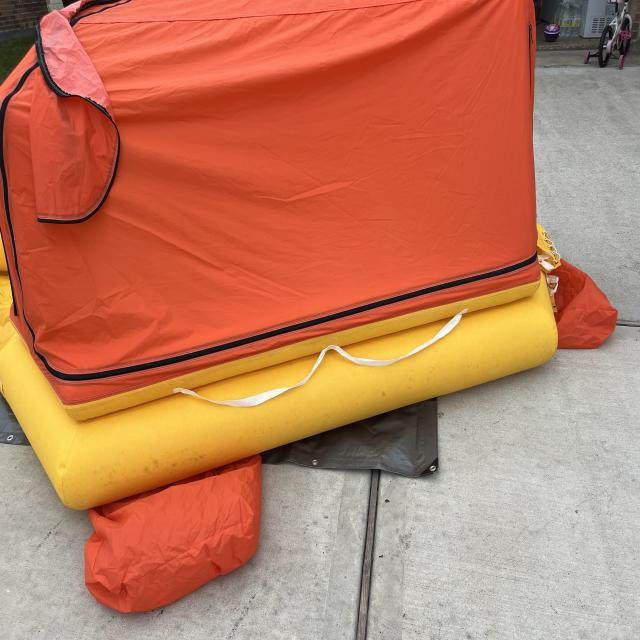Multi-person_life_raft: (0, 1, 617, 613)
